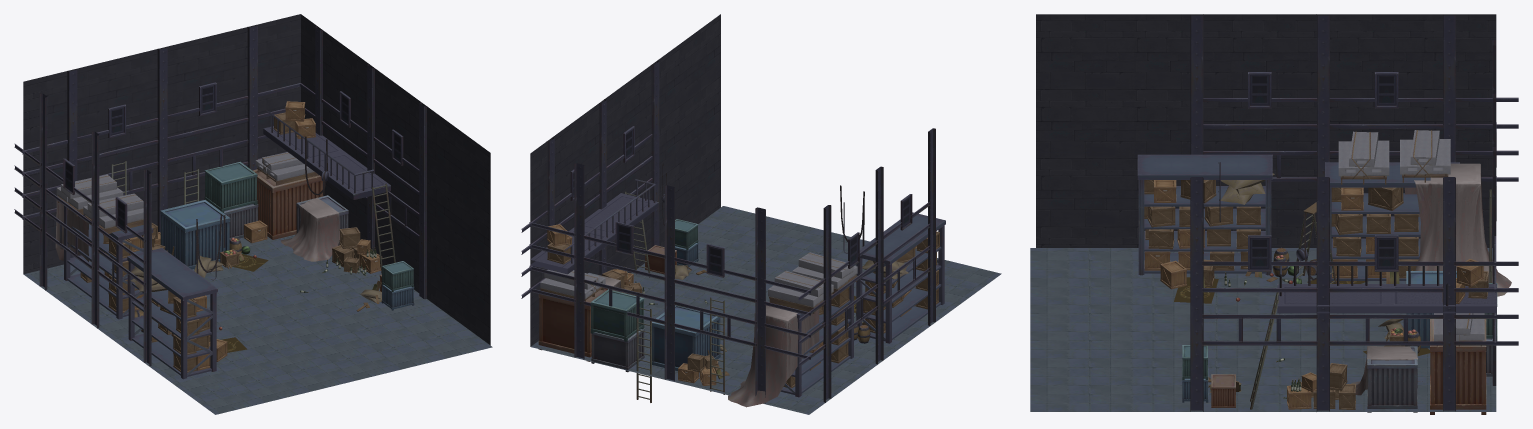
The model's file is stage.glb.
3 views of the same model, side by side, from view 1: azimuth 30°, elevation 25°; view 2: azimuth 150°, elevation 25°; view 3: azimuth 270°, elevation 25° (orthographic). The views are drawn at different scales.
Visible parts, largest first — view 1: KORE_export_5_CangKu01_1_0_0.003, KORE_export_5_CangKu02_1_0_0.003, KORE_export_5_CangKu04_1_0_0.003, KORE_export_5_CangKu03_1_0_0.003, KORE_export_7_CangKu05_1_0_0.003; view 2: KORE_export_5_CangKu01_1_0_0.003, KORE_export_5_CangKu02_1_0_0.003, KORE_export_5_CangKu04_1_0_0.003, KORE_export_5_CangKu03_1_0_0.003; view 3: KORE_export_5_CangKu01_1_0_0.003, KORE_export_5_CangKu02_1_0_0.003, KORE_export_5_CangKu04_1_0_0.003, KORE_export_5_CangKu03_1_0_0.003, KORE_export_7_CangKu05_1_0_0.003.
Part boxes in pixels (x1,y1,x2,y2): KORE_export_5_CangKu01_1_0_0.003: (14,14,490,379); KORE_export_5_CangKu02_1_0_0.003: (23,234,492,414); KORE_export_5_CangKu04_1_0_0.003: (55,101,382,372); KORE_export_5_CangKu03_1_0_0.003: (160,161,414,310); KORE_export_7_CangKu05_1_0_0.003: (196,136,327,352); KORE_export_5_CangKu01_1_0_0.003: (521,14,945,403); KORE_export_5_CangKu02_1_0_0.003: (531,206,1001,414); KORE_export_5_CangKu04_1_0_0.003: (540,224,939,407); KORE_export_5_CangKu03_1_0_0.003: (538,219,720,372); KORE_export_5_CangKu01_1_0_0.003: (1036,14,1518,411); KORE_export_5_CangKu02_1_0_0.003: (1030,248,1496,411); KORE_export_5_CangKu04_1_0_0.003: (1144,130,1511,409); KORE_export_5_CangKu03_1_0_0.003: (1182,271,1497,414); KORE_export_7_CangKu05_1_0_0.003: (1174,162,1430,355).
Bounding box in the file's own units: 14.47 × 10.91 × 18.
5 materials, 5 textured.
